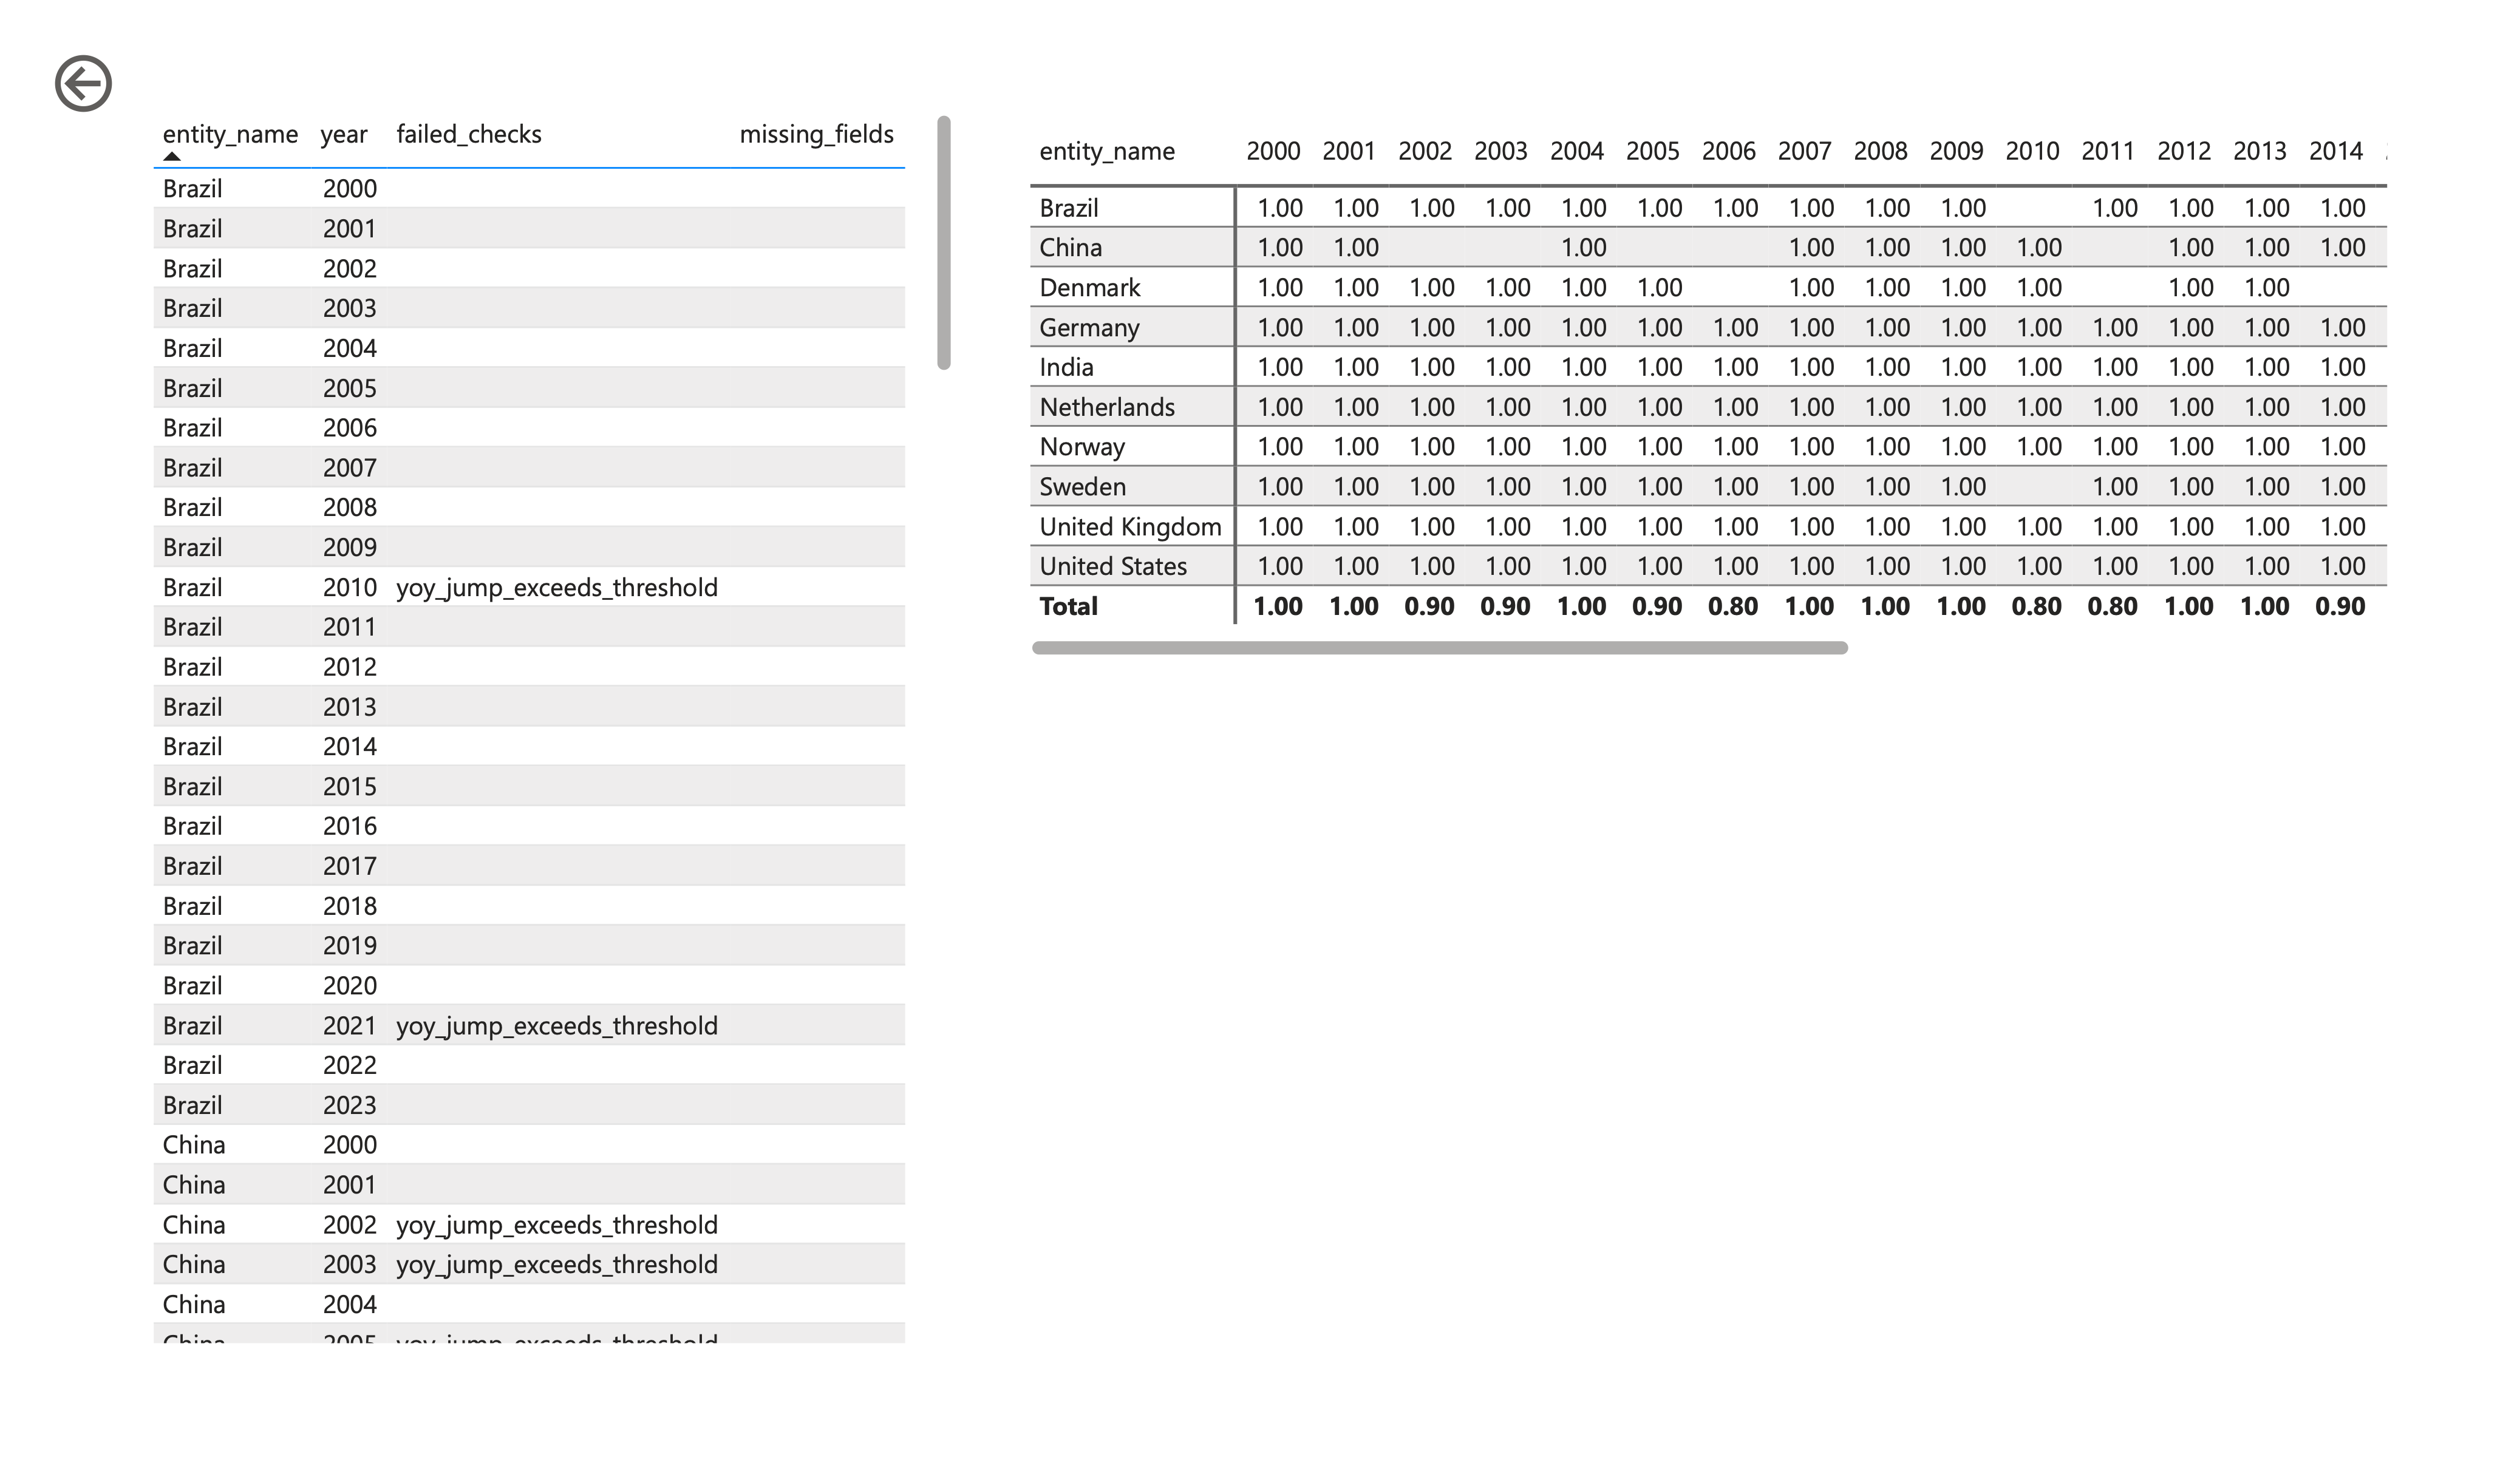

What the dashboard file says about the page in this screenshot:
{"tool":"powerbi","page":{"name":"QA Details","canvas":[1280,720],"ordinal":3},"visuals":[{"type":"tableEx","fields":{"Values":["DIM_ENTITY.entity_name","FACT_DATA_QUALITY.year","FACT_DATA_QUALITY.failed_checks","FACT_DATA_QUALITY.missing_fields"]},"box":[51.4,31.4,431.4,657.1],"z":0},{"type":"actionButton","box":[0,0,100,40],"z":1000},{"type":"pivotTable","fields":{"Columns":["DIM_DATE.year"],"Rows":["DIM_ENTITY.entity_name"],"Values":["_Measure.Validity %"]},"box":[514.3,40,724.3,287.1],"z":2000}]}

Visuals, with their boxes on the page's 1280x720 design canvas (x1, y1, x2, y2). These are canvas units, not pixel positions in the 2520x1457 screenshot, which may show the page scaled, cropped or inside an application window:
tableEx - DIM_ENTITY.entity_name x FACT_DATA_QUALITY.year: 51 31 483 688
actionButton: 0 0 100 40
pivotTable - DIM_DATE.year x DIM_ENTITY.entity_name: 514 40 1239 327
